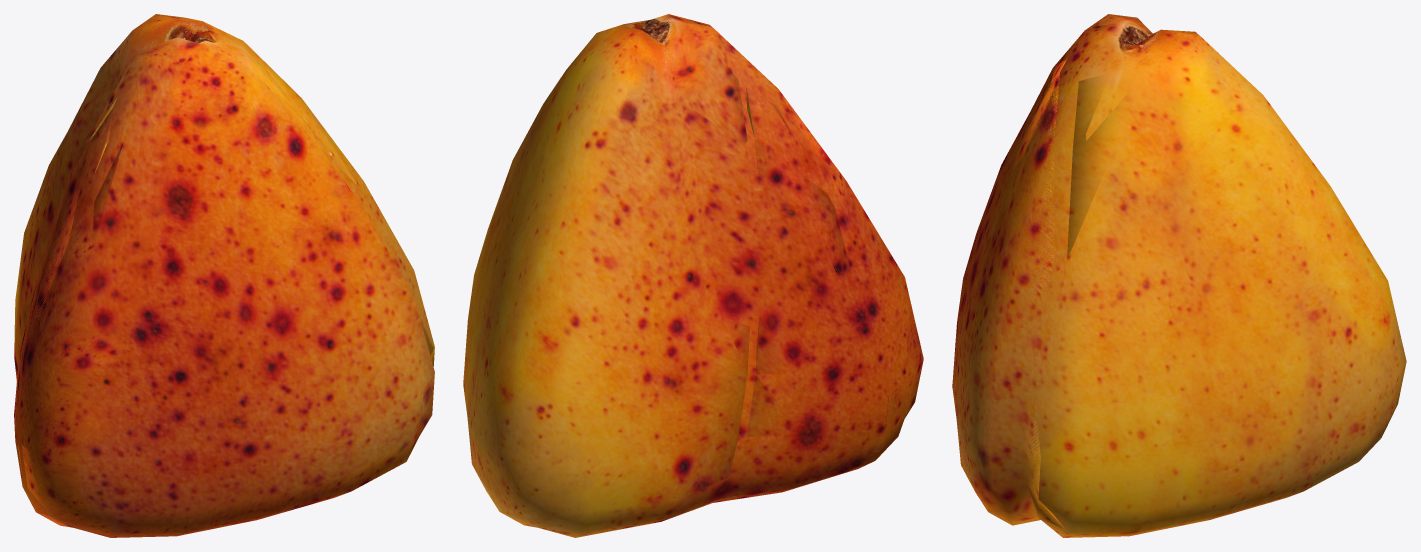
The model's file is TrApricot.fbx.
The picture shows the model from 3 angles, left to right: view 1: azimuth 30°, elevation 25°; view 2: azimuth 150°, elevation 25°; view 3: azimuth 270°, elevation 25°; orthographic projection.
Visible parts, largest first — view 1: TrApricot, TrApricot_cell, TrApricot_cell.001, TrApricot_cell.002; view 2: TrApricot, TrApricot_cell.001, TrApricot_cell.002, TrApricot_cell; view 3: TrApricot, TrApricot_cell.001, TrApricot_cell.
Part boxes in pixels (x1=…): TrApricot: x1=14, y1=16, x2=434, y2=537; TrApricot_cell: x1=21, y1=92, x2=434, y2=537; TrApricot_cell.001: x1=14, y1=14, x2=358, y2=381; TrApricot_cell.002: x1=18, y1=107, x2=113, y2=479; TrApricot: x1=466, y1=14, x2=923, y2=537; TrApricot_cell.001: x1=463, y1=14, x2=749, y2=537; TrApricot_cell.002: x1=713, y1=87, x2=889, y2=502; TrApricot_cell: x1=779, y1=91, x2=918, y2=435; TrApricot: x1=961, y1=14, x2=1406, y2=537; TrApricot_cell.001: x1=1067, y1=18, x2=1397, y2=535; TrApricot_cell: x1=952, y1=58, x2=1066, y2=529.
Size of the model in its own units: 9.09 by 9.57 by 8.81.
